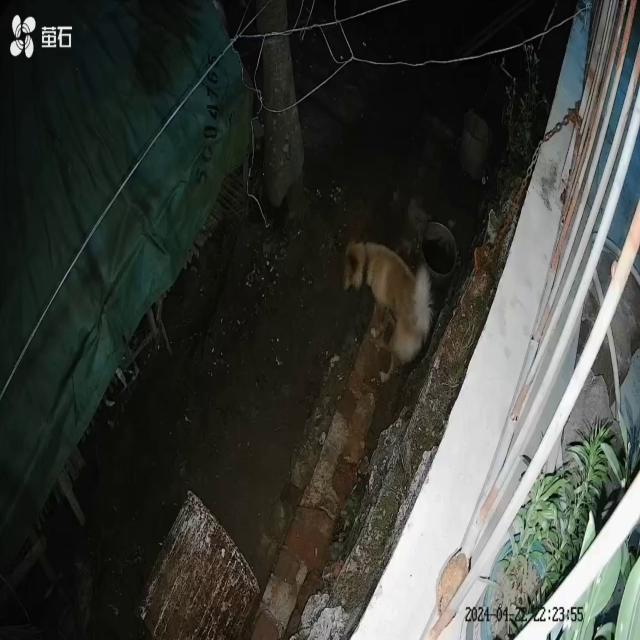dog: (343, 238, 435, 384)
